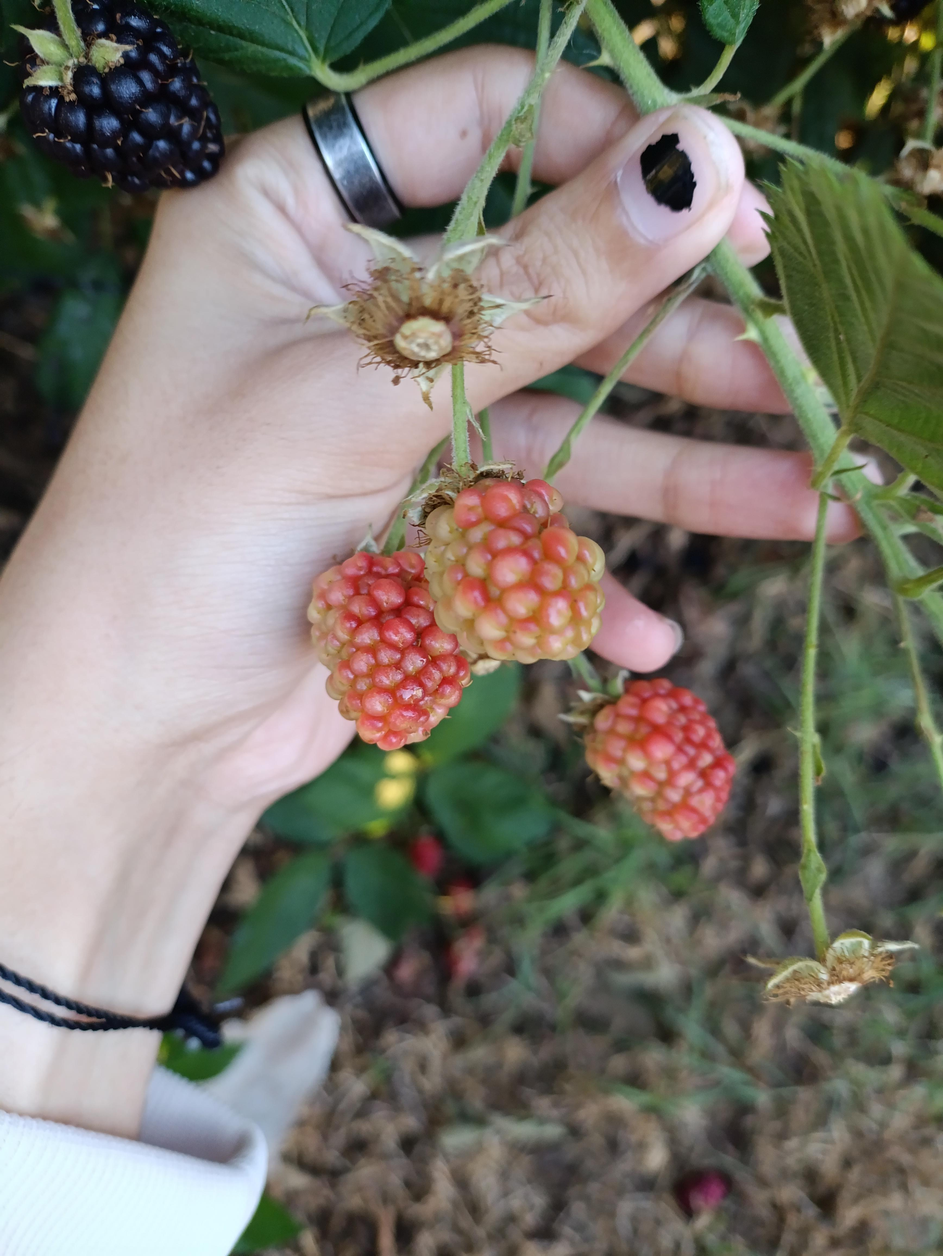maduro: (20, 0, 224, 193)
naranja: (425, 470, 604, 664), (308, 551, 470, 751), (585, 678, 734, 840)
